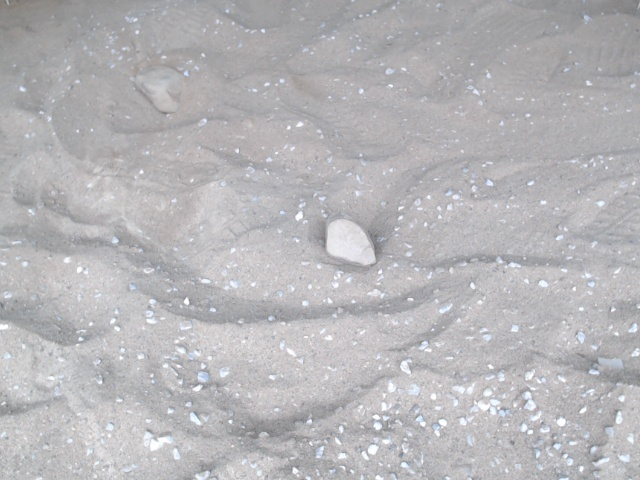rock: (320, 212, 381, 273), (129, 61, 191, 120)
